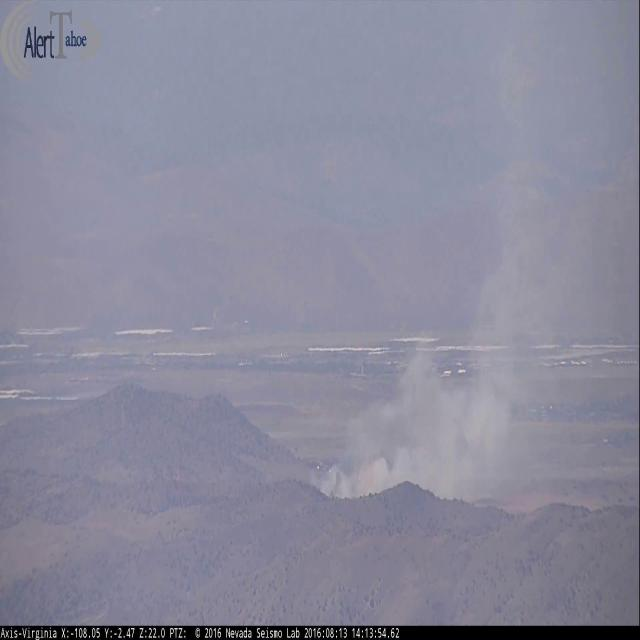smoke: (311, 29, 586, 500)
